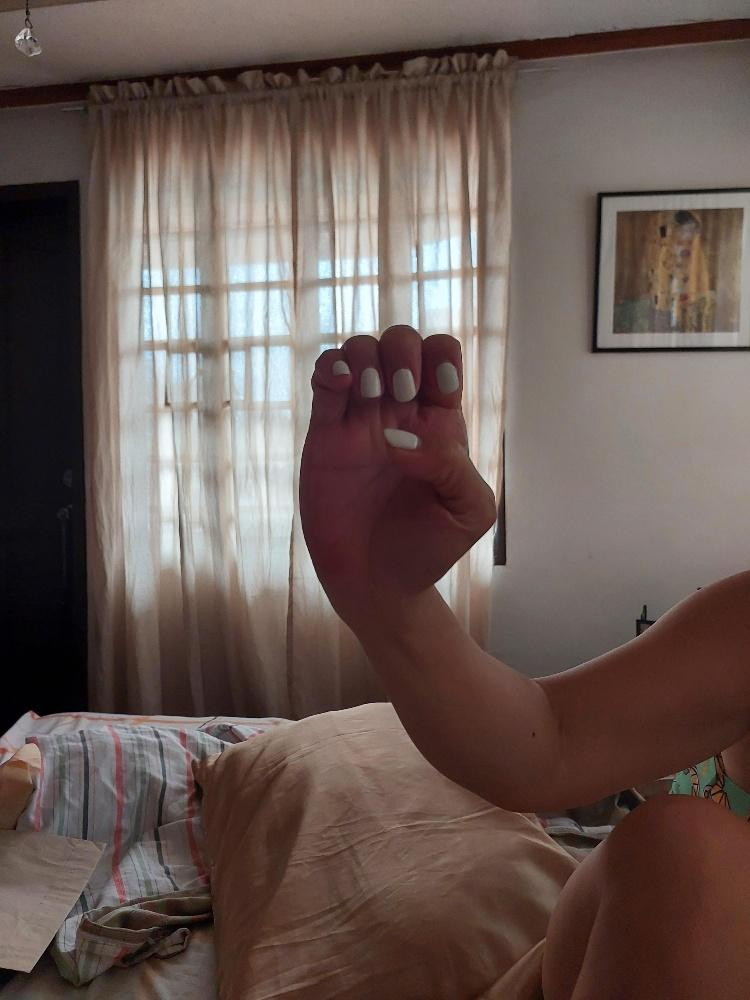e: (294, 319, 503, 603)
